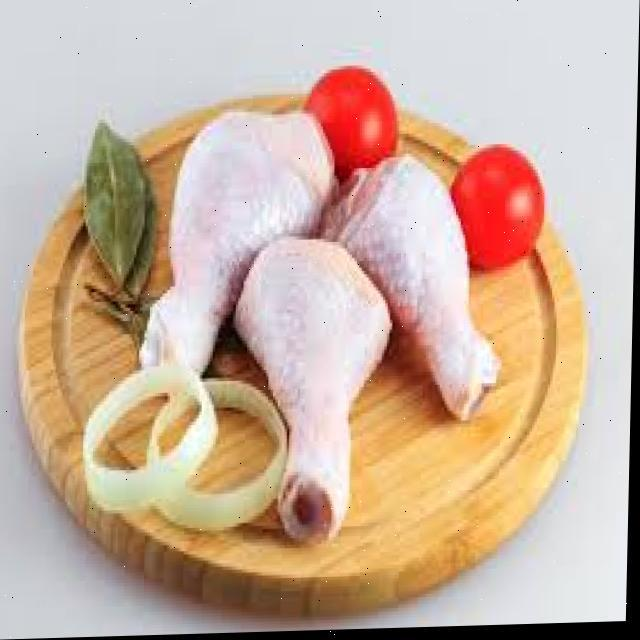leg: (143, 92, 340, 391), (322, 156, 512, 422), (236, 235, 392, 556)
